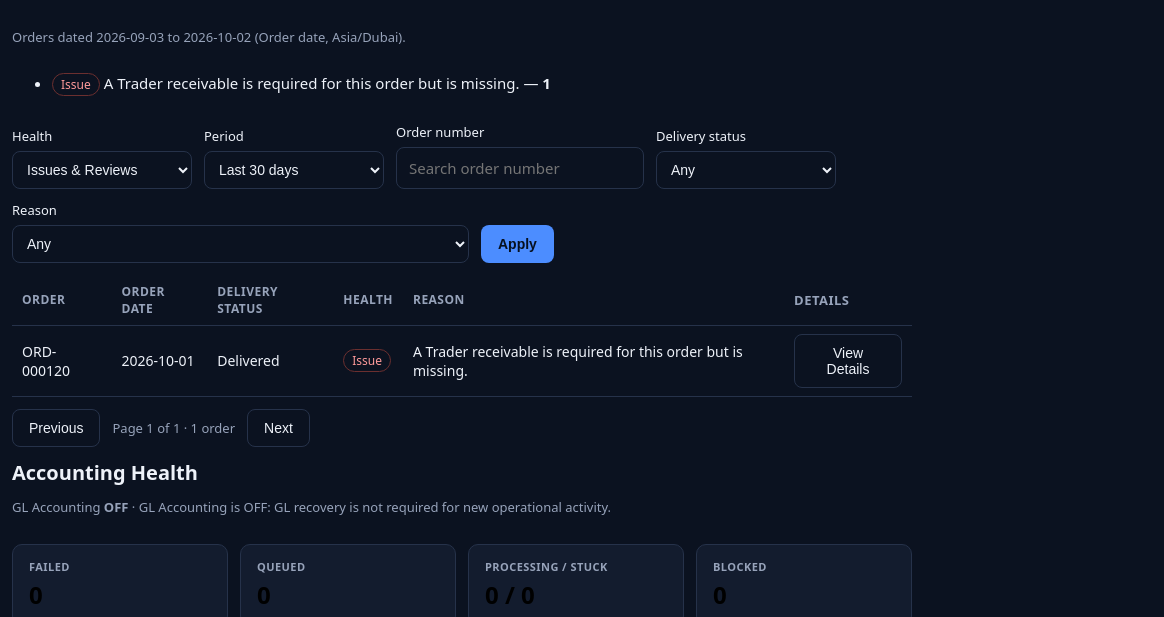
it: Repair Center -- Company Order Health (read-only) › View Details re-uses Verify First and shows effective vs historical offsets
This screenshot has width=1164, height=617.
(page scrolled)
Step 1. Click the button "View Details" → (848, 361), box [794,334,902,388]
(page scrolled)
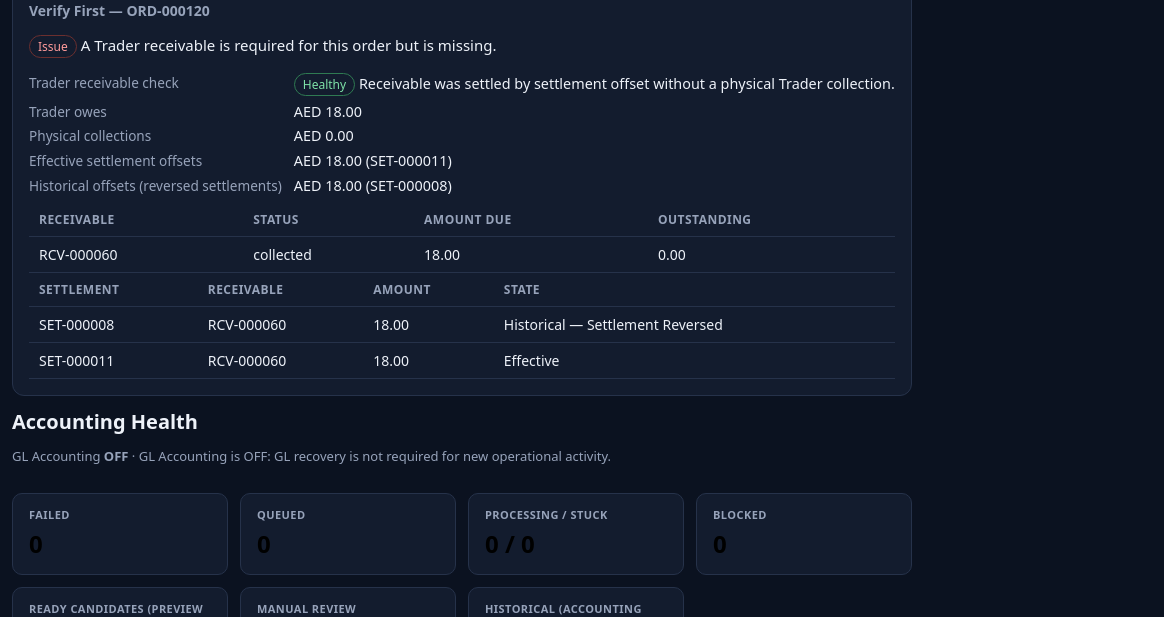
Expected: the text "Trader owes" is shown, [29,102,107,121]
Expected: the text "Historical — Settlement Reversed" is shown, [494,306,895,342]
Expected: the text "Effective" is shown, [494,342,895,378]
